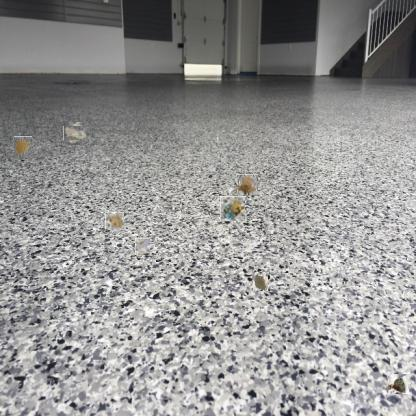dirty: (220, 196, 245, 221), (387, 374, 411, 394), (237, 174, 258, 196), (66, 124, 84, 143), (252, 272, 271, 290), (135, 238, 150, 255)
liquid: (106, 211, 124, 230), (14, 137, 33, 155)
